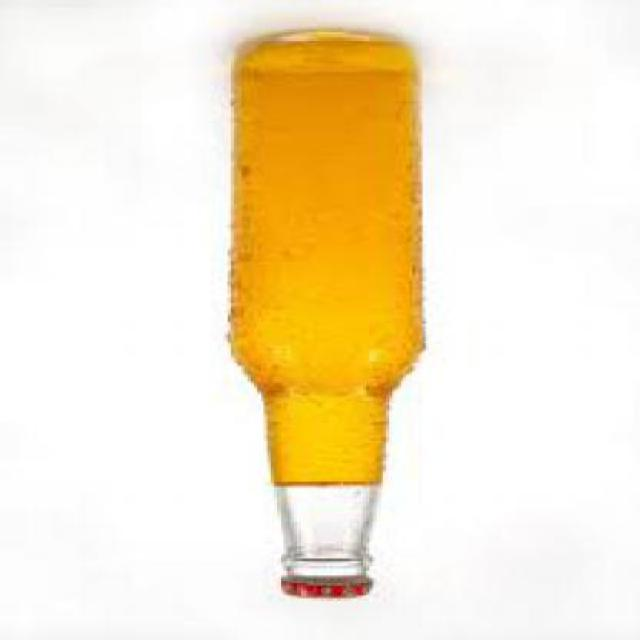GLASS: (221, 29, 425, 583)
METAL: (274, 583, 369, 599)
